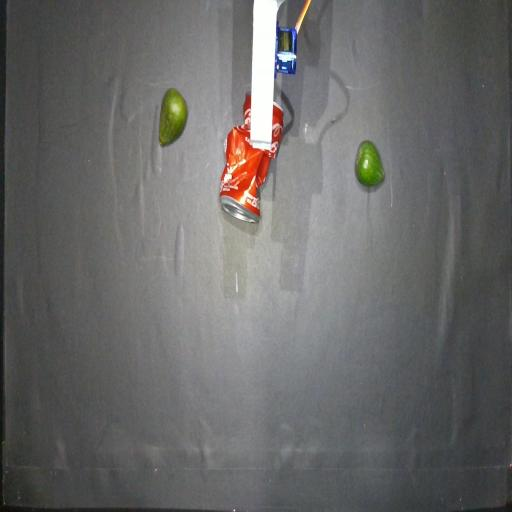higo: (158, 88, 187, 146), (355, 141, 385, 186)
lata_defectuoso: (219, 92, 283, 222)
